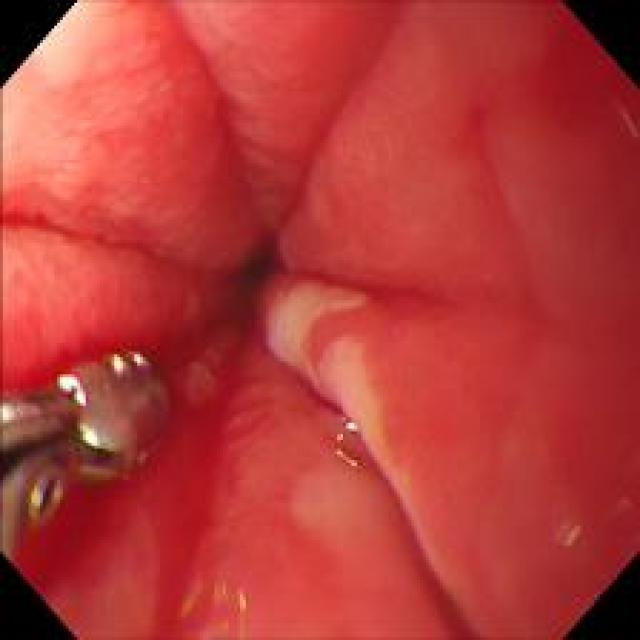blur: (1, 350, 171, 562)
color misalignment: (181, 571, 261, 626), (326, 401, 371, 475), (26, 470, 65, 515), (105, 344, 150, 380), (1, 394, 52, 421), (74, 420, 115, 451), (80, 458, 122, 484), (58, 374, 90, 405), (552, 516, 584, 546), (269, 231, 290, 275)
contrast: (241, 246, 274, 281)
instrument: (0, 350, 174, 561)
saturation: (1, 0, 114, 104)
